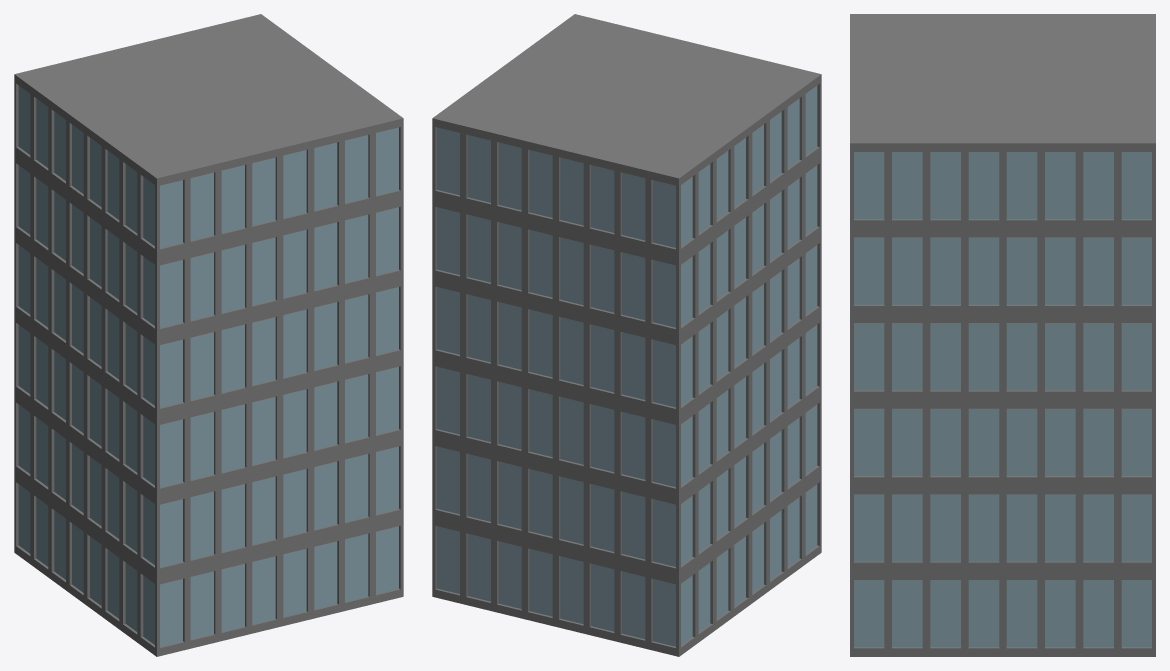
Rendered from Building_Var1.fbx.
3 renders of one model, left to right at view 1: azimuth 30°, elevation 25°; view 2: azimuth 150°, elevation 25°; view 3: azimuth 270°, elevation 25°, orthographic. The views are drawn at different scales.
Visible parts, largest first — view 1: Building_Var1; view 2: Building_Var1; view 3: Building_Var1.
Part boxes in pixels (x1,y1,x2,y2): Building_Var1: (14, 14, 403, 656); Building_Var1: (432, 14, 821, 656); Building_Var1: (850, 14, 1155, 656).
Bounding box in the file's own units: 12.3 × 22.79 × 12.3.
